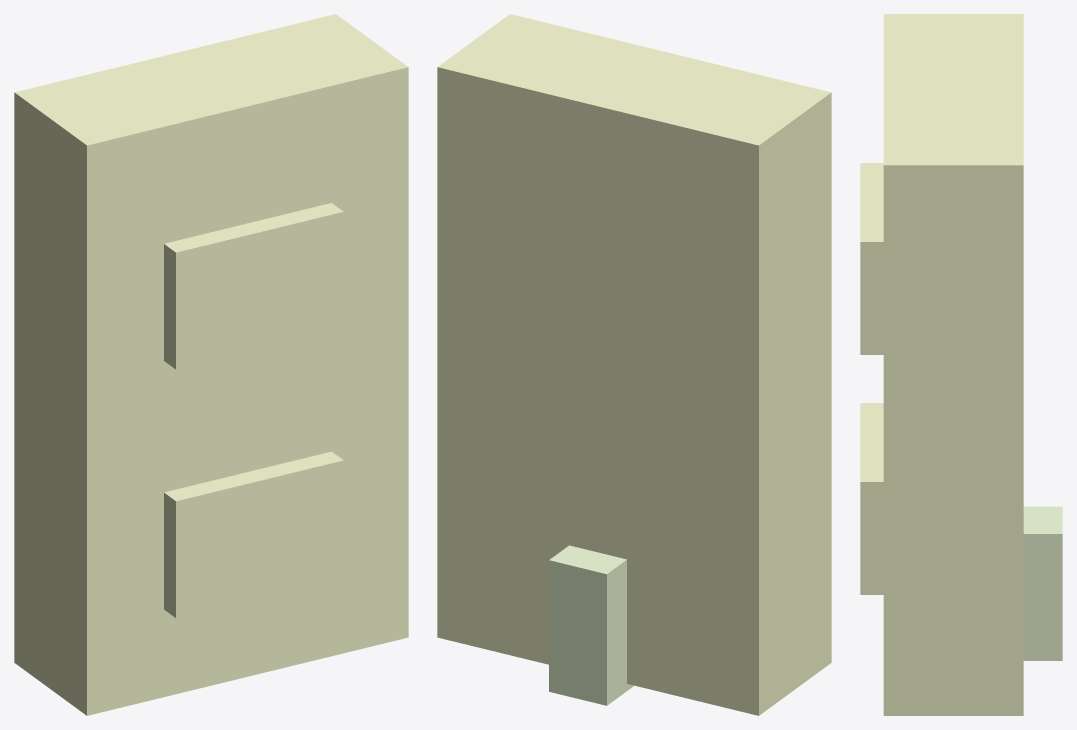
The model's file is signal_lane_control_compact_2_aspect.glb.
3 renders of one model, left to right at view 1: azimuth 30°, elevation 25°; view 2: azimuth 150°, elevation 25°; view 3: azimuth 270°, elevation 25°, orthographic. The views are drawn at different scales.
Visible parts, largest first — view 1: housing, display_red_x, display_green_arrow; view 2: housing, bracket; view 3: housing, bracket, display_red_x, display_green_arrow.
Boxes of the visible parts, x1,y1,x2,y2 form: housing: (14,14,408,715); display_red_x: (164,203,343,369); display_green_arrow: (164,451,343,618); housing: (437,14,831,715); bracket: (549,545,633,705); housing: (883,14,1023,715); bracket: (1023,506,1062,660); display_red_x: (860,163,883,354); display_green_arrow: (860,403,883,594).
Bounding box in the file's own units: 0.46 × 0.79 × 0.26.
